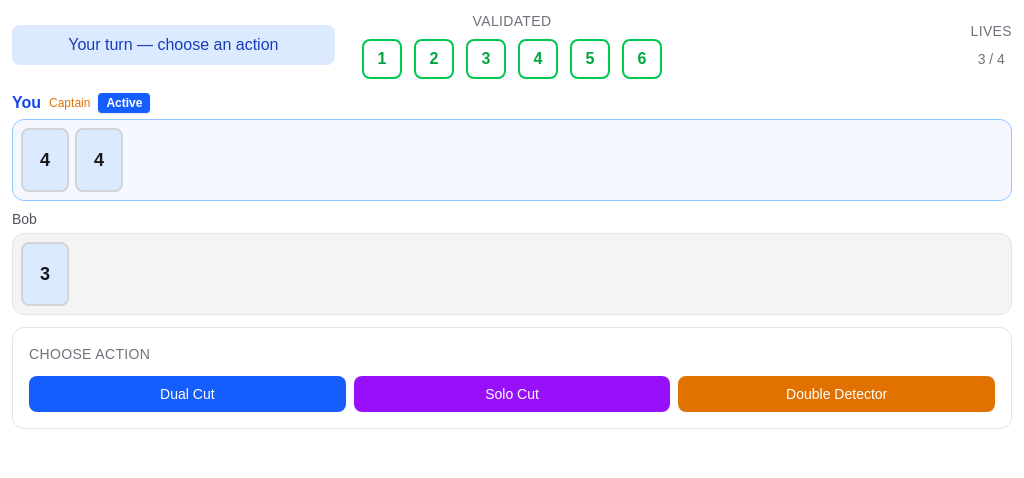
Test: GameBoard › solo_cut: selecting 2 matching wires enables Confirm Solo Cut
The image size is (1024, 478).
Click the button "Solo Cut" at point(512, 394), box [354, 376, 670, 412]
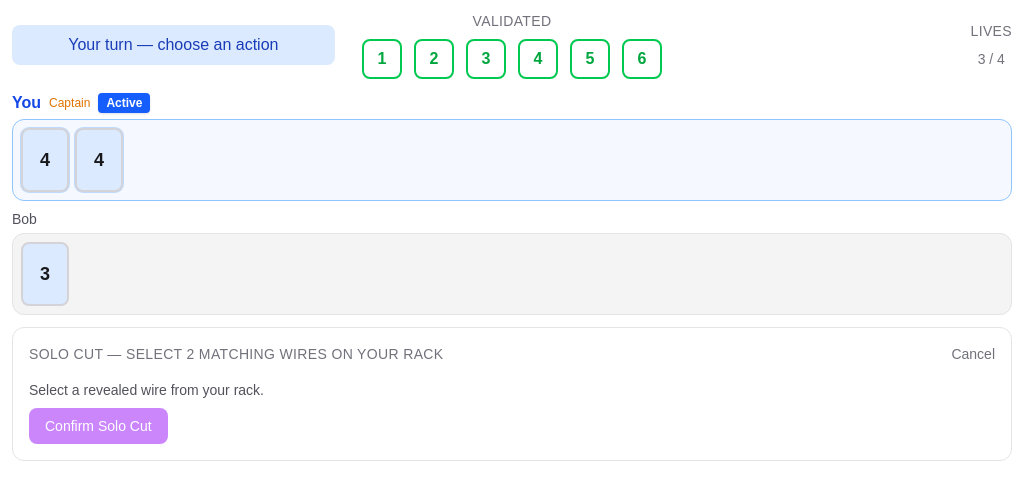
Note: Scope to local rack to avoid ValidationTracker slot ambiguity
Click the 1st button "4" at point(45, 160), box [21, 128, 69, 192]
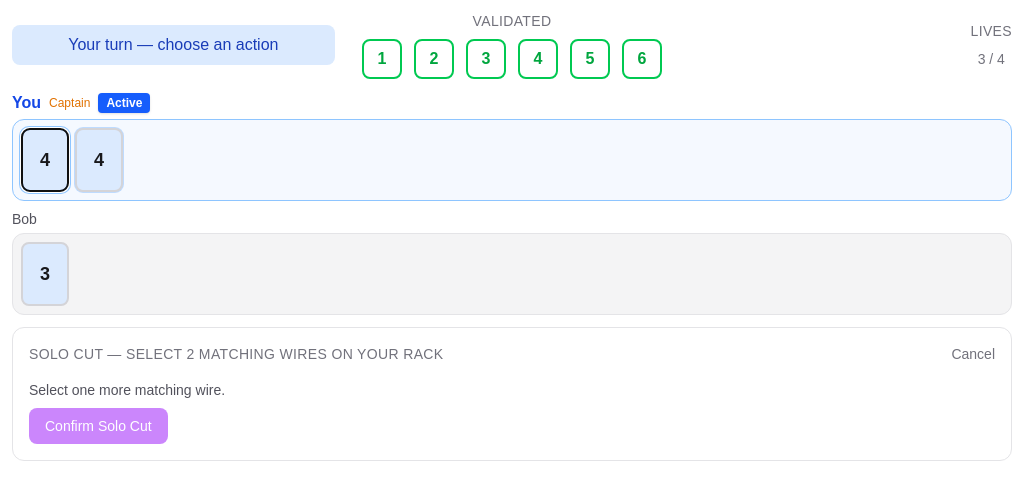
Click the 2nd button "4" at point(99, 160), box [75, 128, 123, 192]
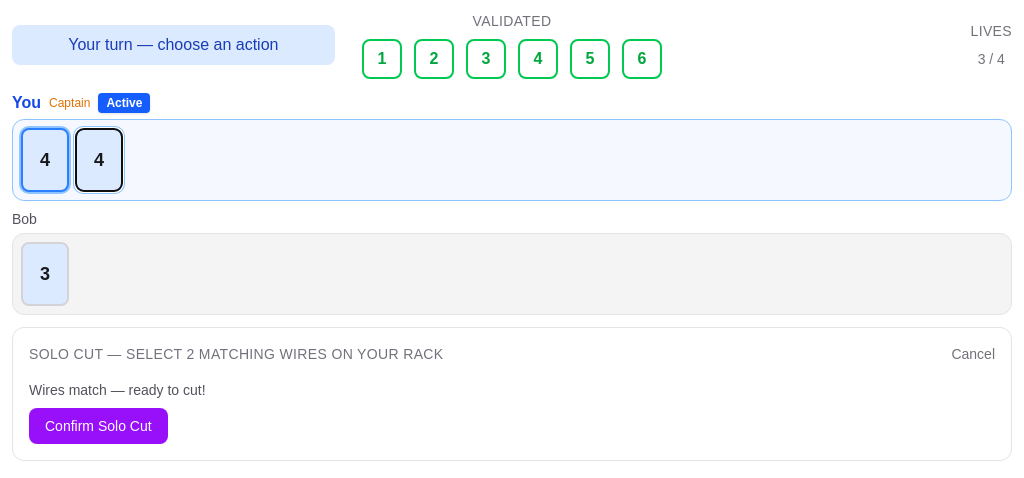
Now the button "Confirm Solo Cut" is enabled, box [29, 408, 168, 444]
